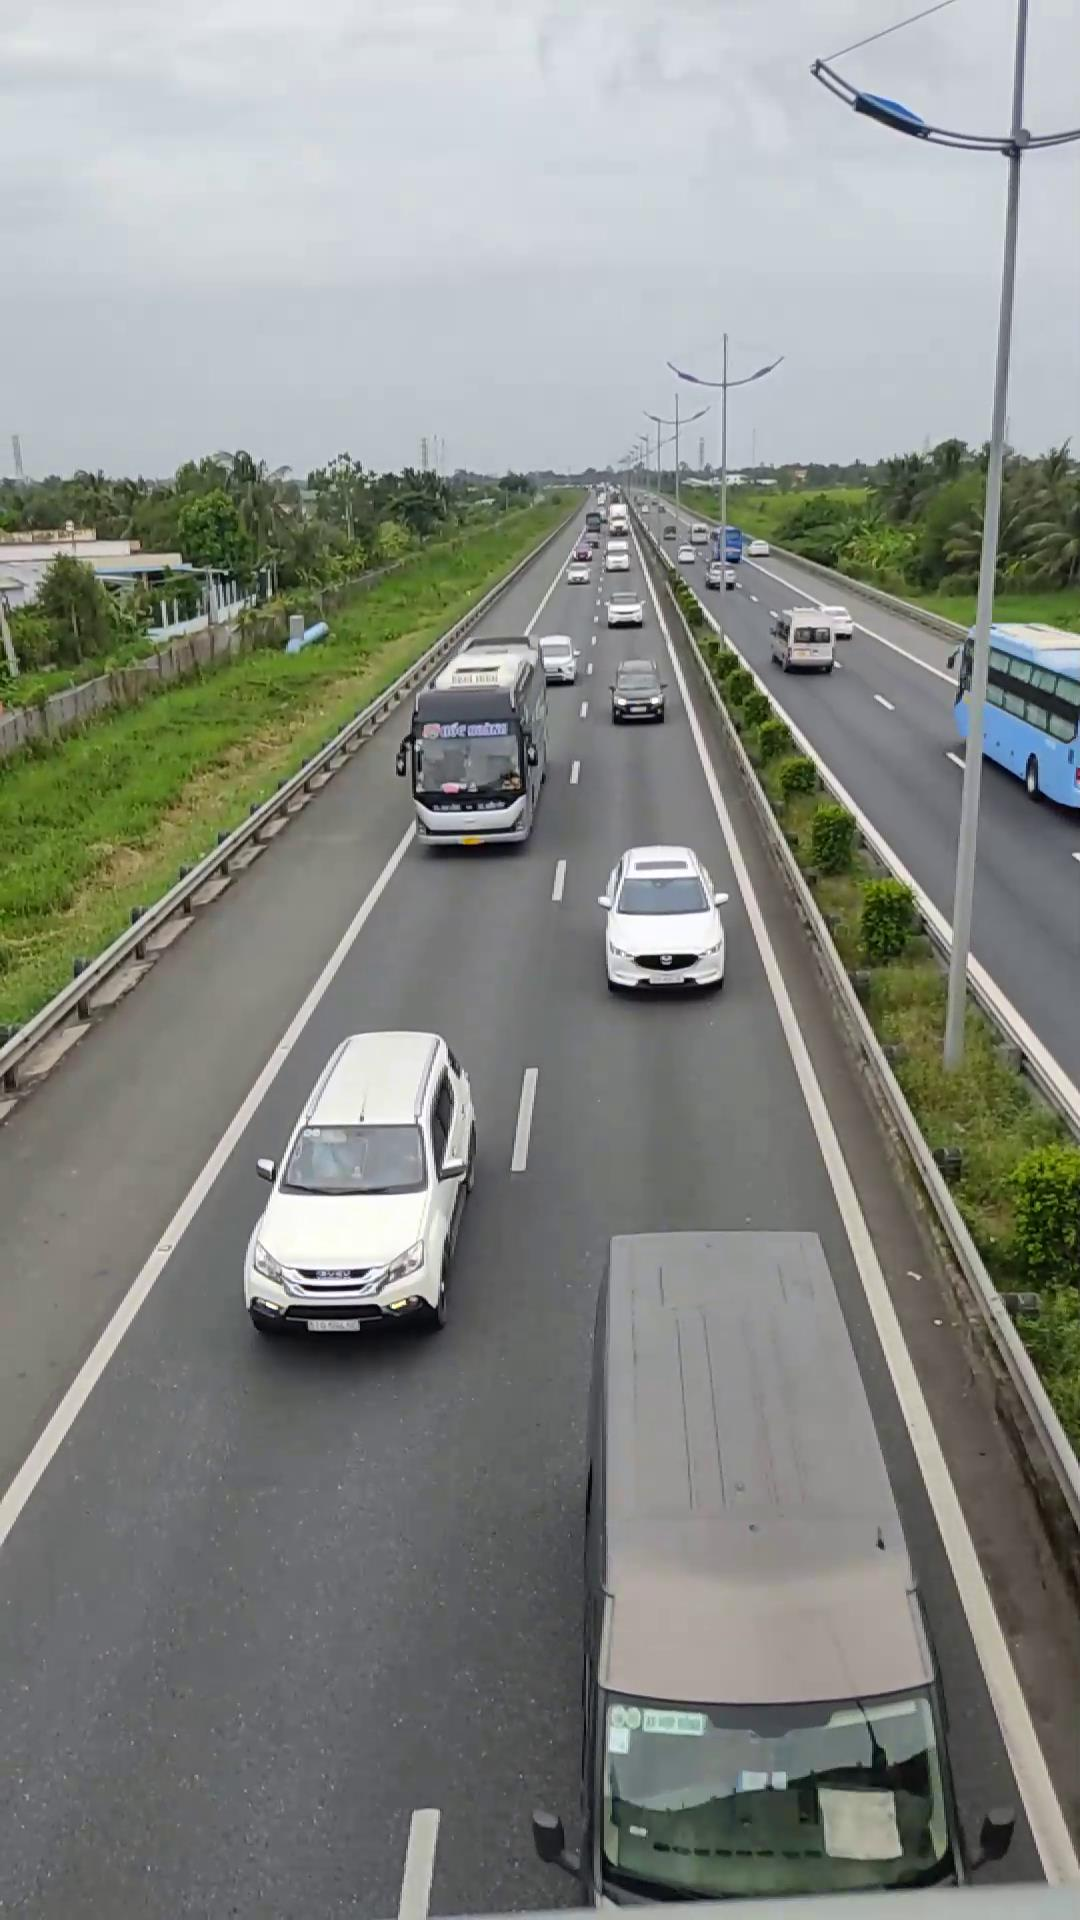bus: (401, 637, 549, 851)
car: (570, 1220, 1038, 1907), (240, 1029, 479, 1338), (597, 844, 728, 996)
